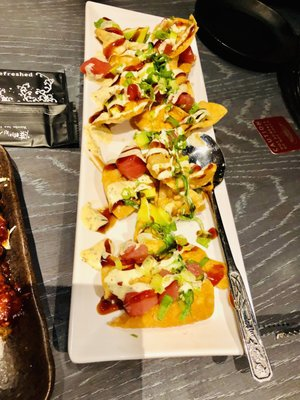sandwich: (78, 93, 230, 332)
